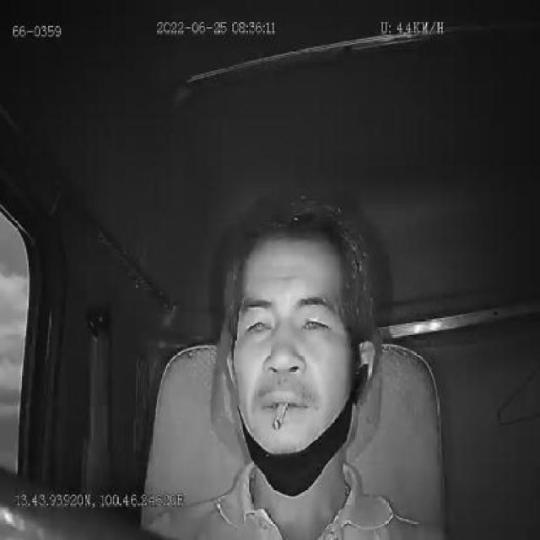smoking: (272, 401, 287, 435)
